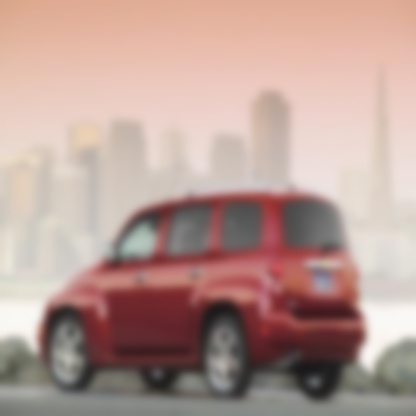Vehicle: (36, 184, 368, 405)
